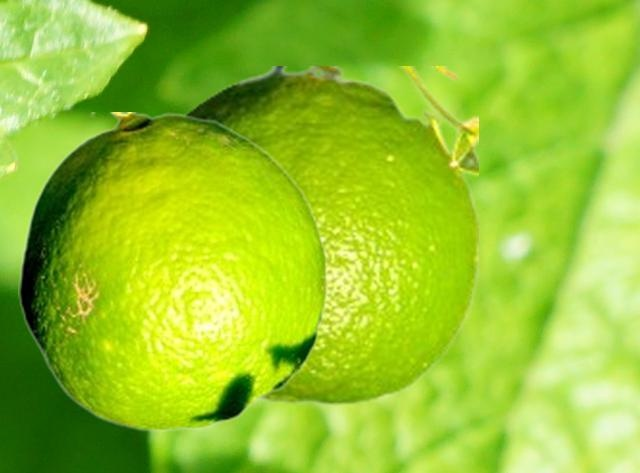dalandan: (182, 66, 477, 404), (18, 112, 327, 431)
